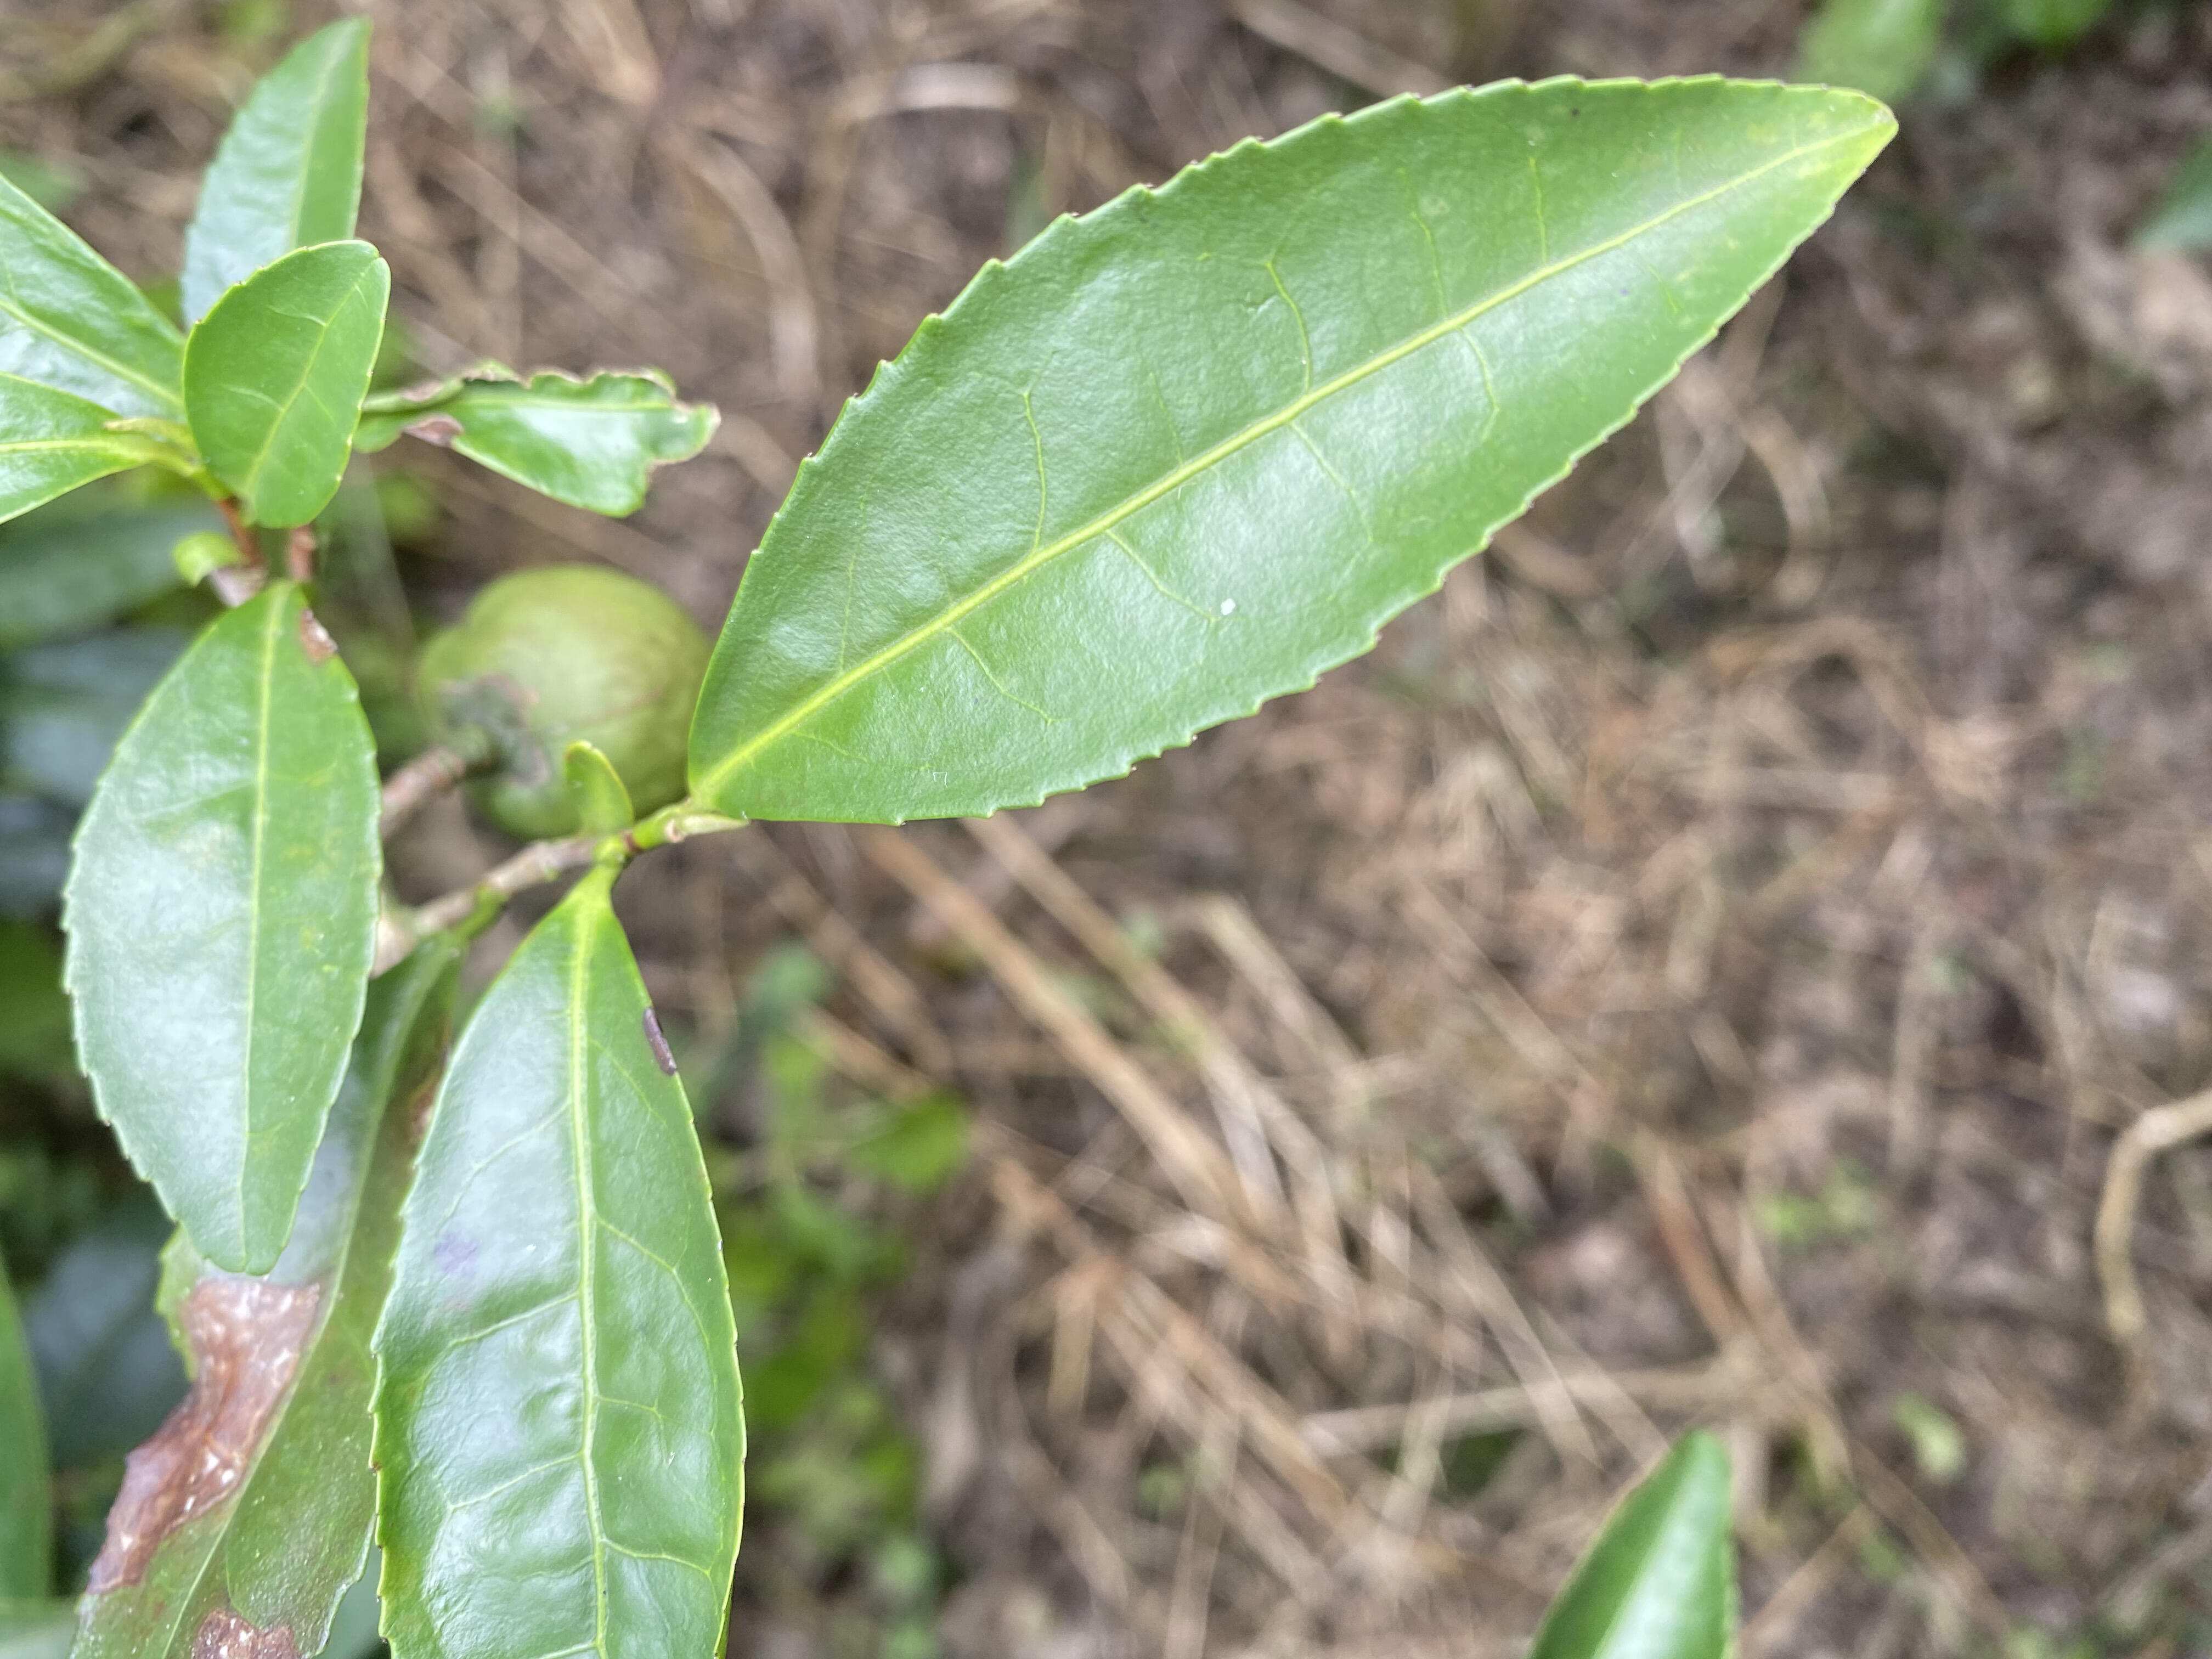healthy: (690, 73, 1902, 823), (181, 242, 395, 533)
tanju_low: (368, 894, 752, 1657), (54, 582, 387, 1277)
